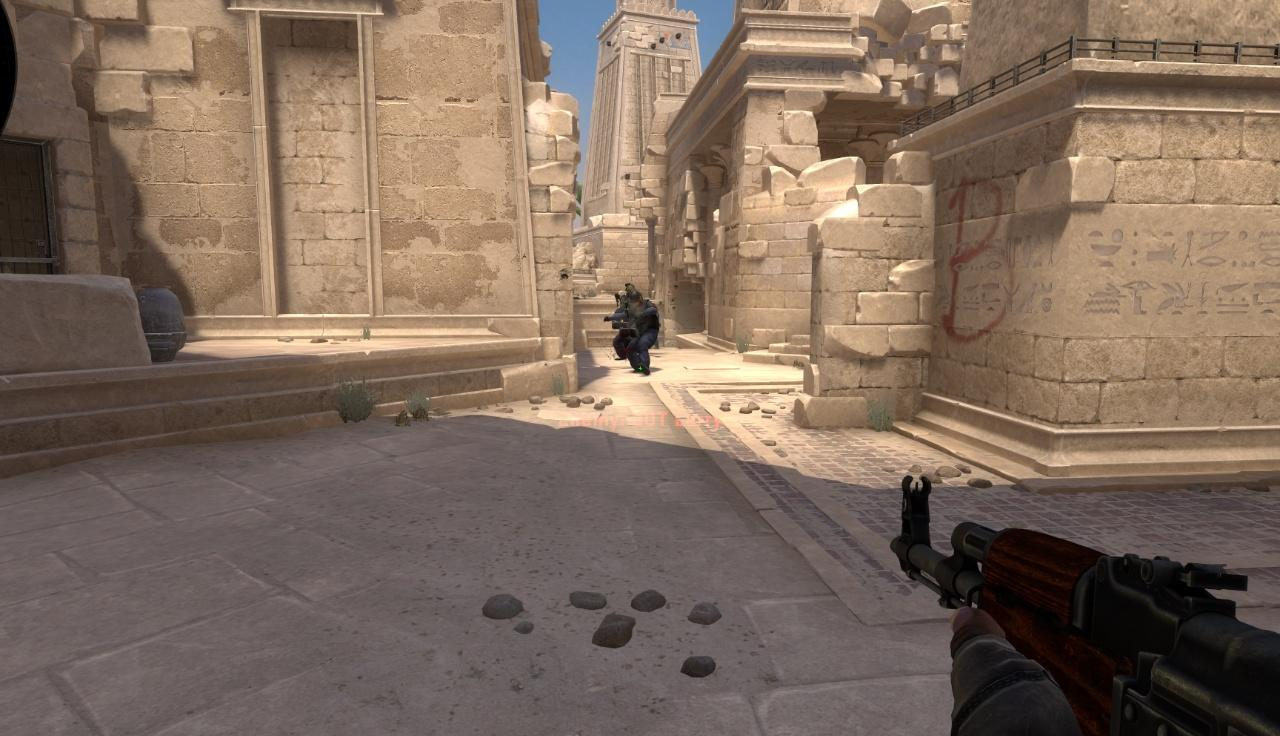ct: (624, 292, 659, 376)
cthead: (630, 293, 642, 306), (625, 283, 635, 294)
rifle: (880, 488, 1280, 731)
